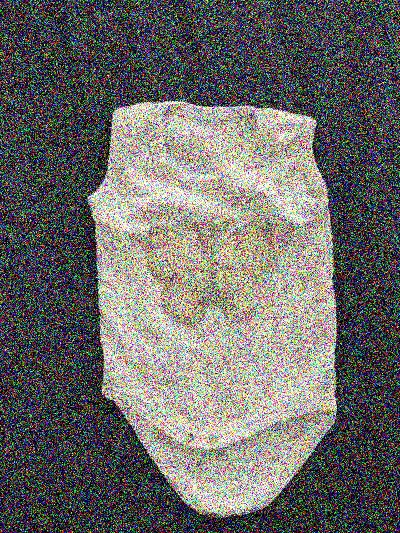Body: (73, 80, 362, 510)
